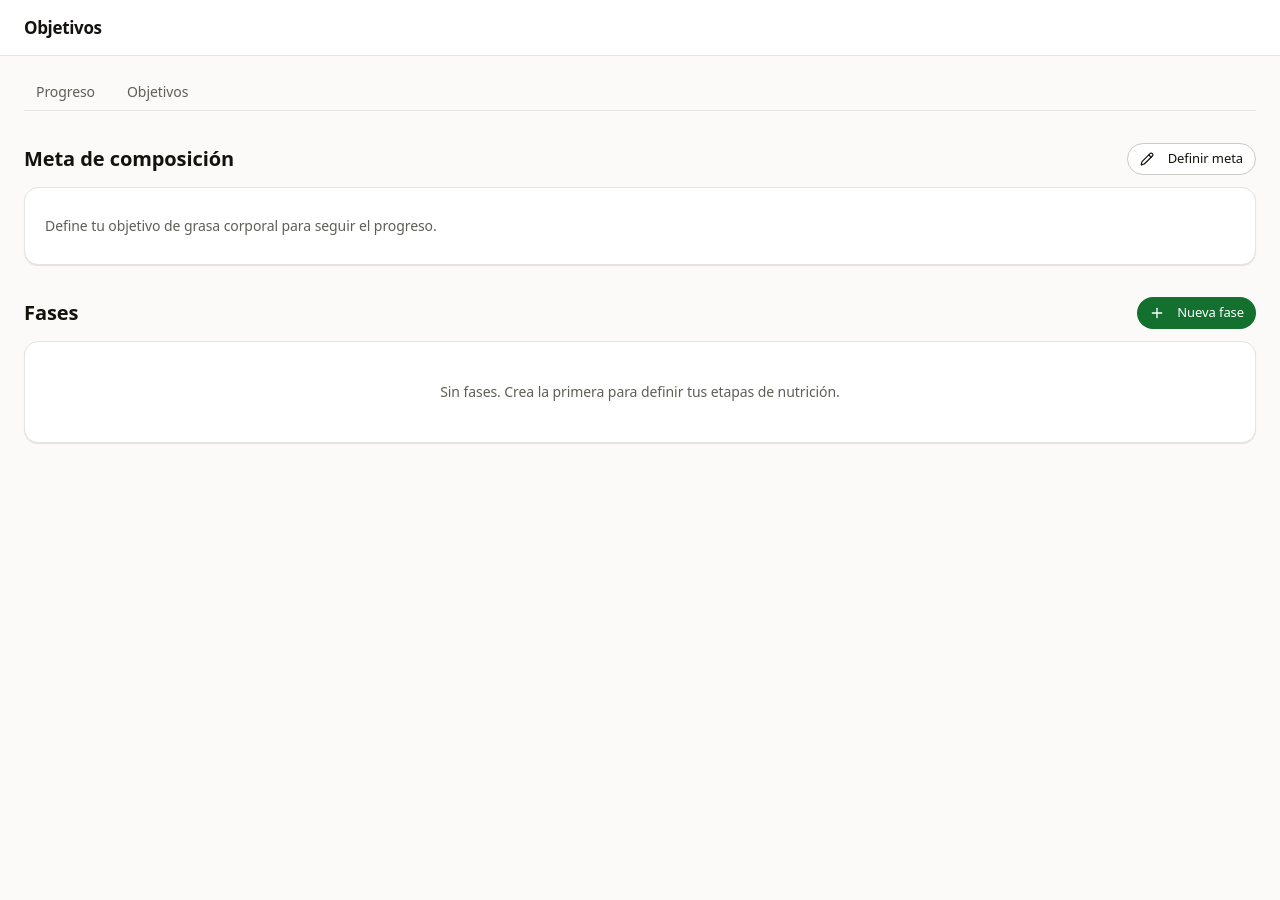
Test: ObjetivosPage — goal dialog (Tier-2) › does not submit a blank target body fat %
Click the button "Definir meta".
click(1191, 159)  # box [1127,143,1256,175]
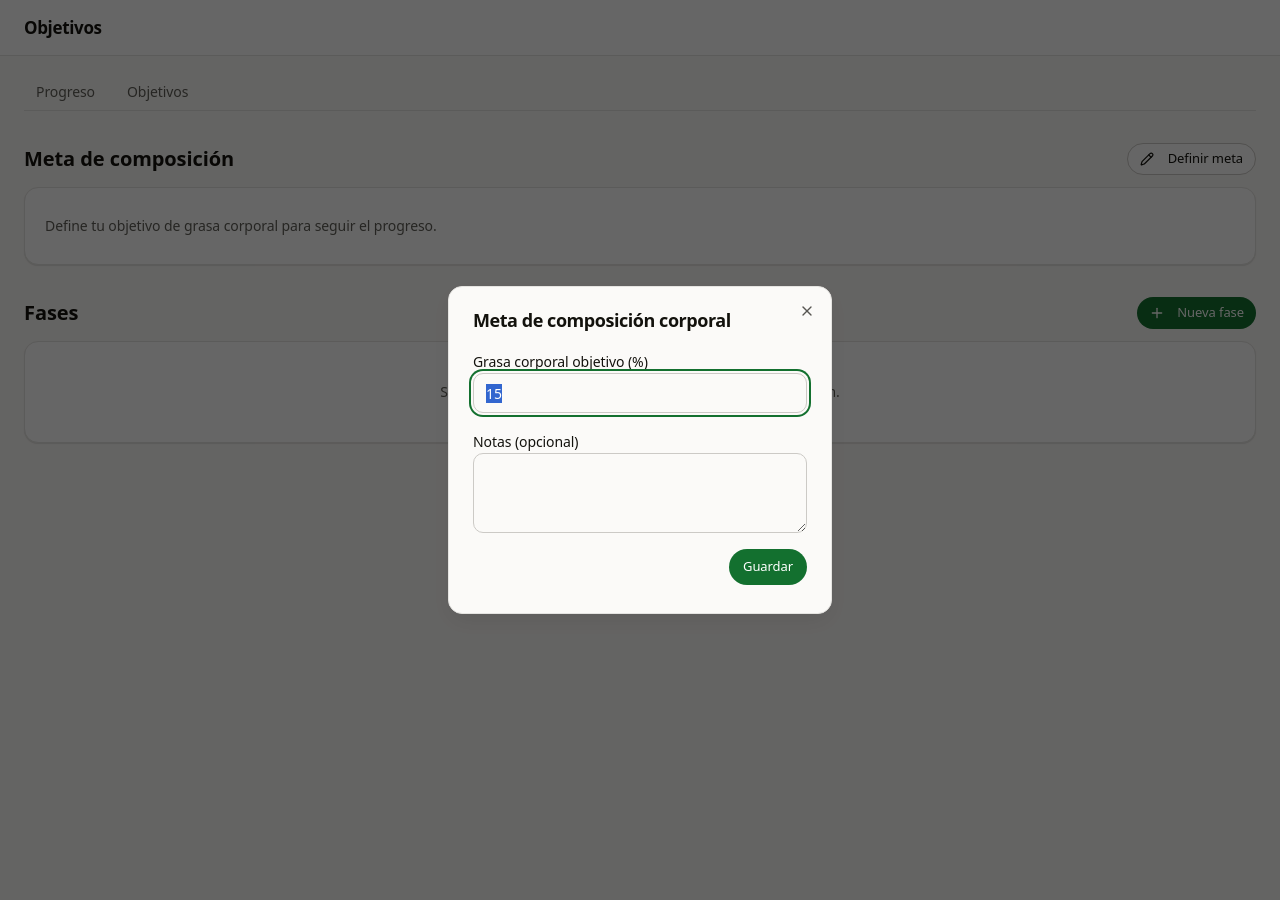
Clear the field labelled "Grasa corporal objetivo (%)" at {"x": 640, "y": 393}, box [473,373,807,413]
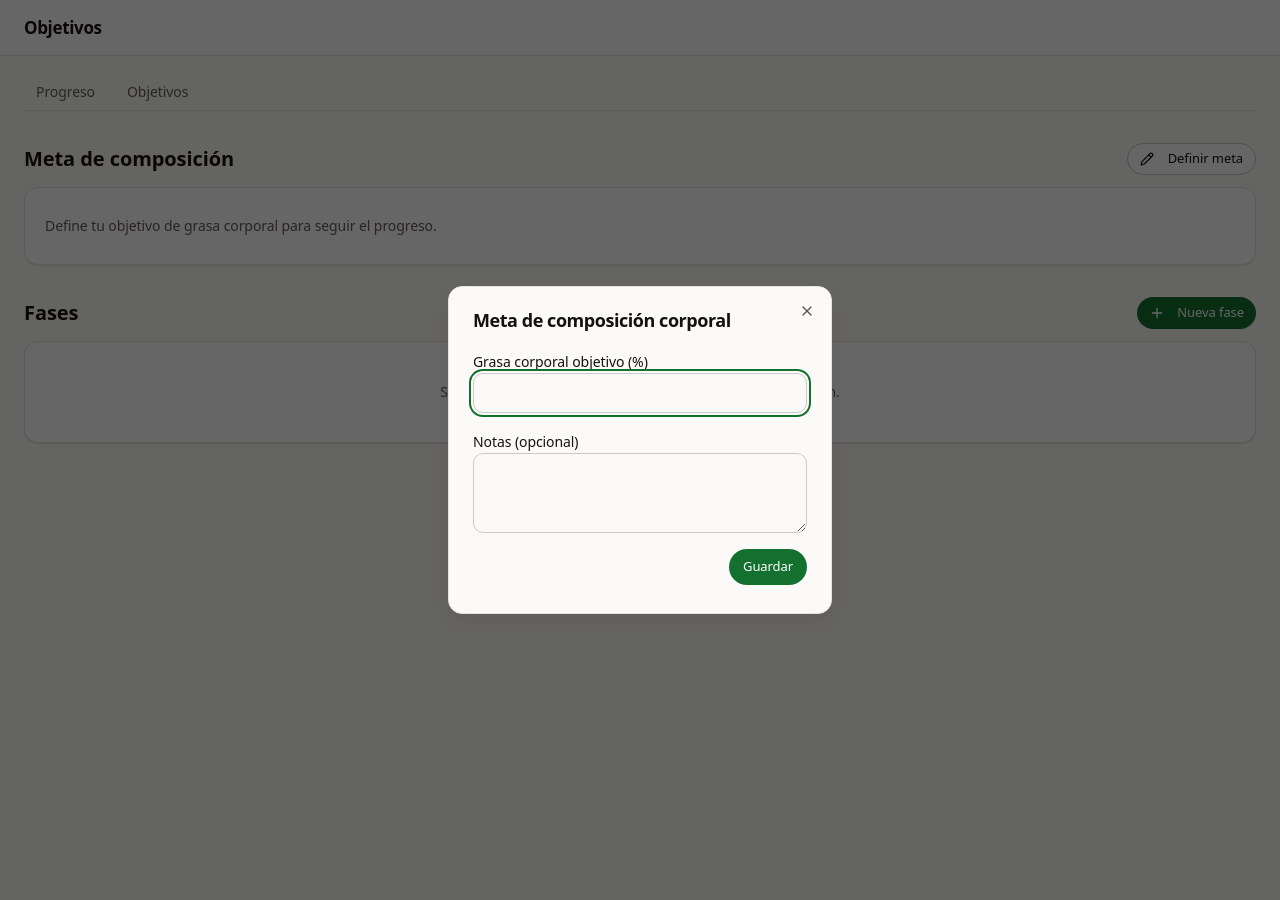
Click the button "Guardar".
click(768, 567)  # box [729,549,807,585]
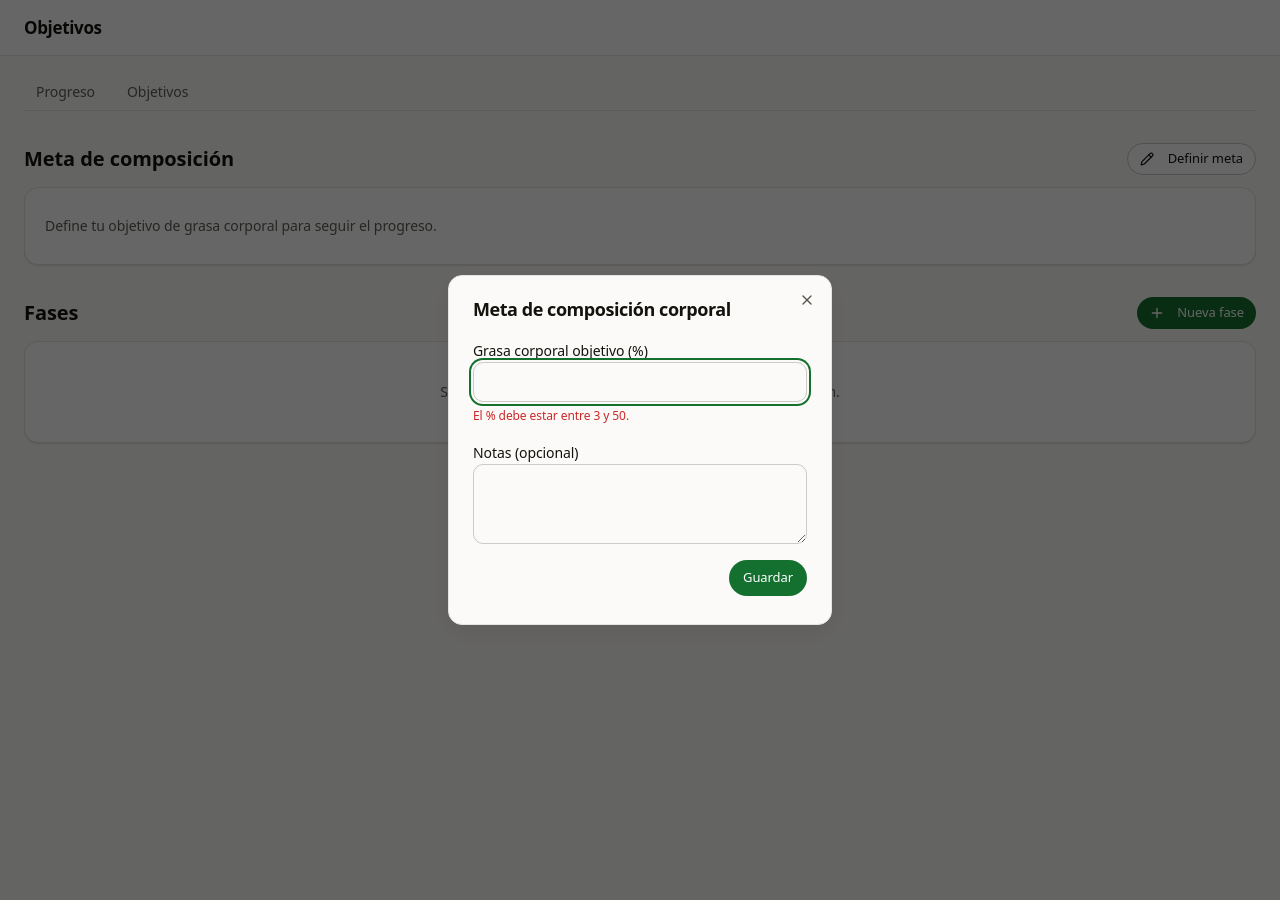
Result: the text "El % debe estar entre 3 y 50." is shown at [473,407,629,424]
